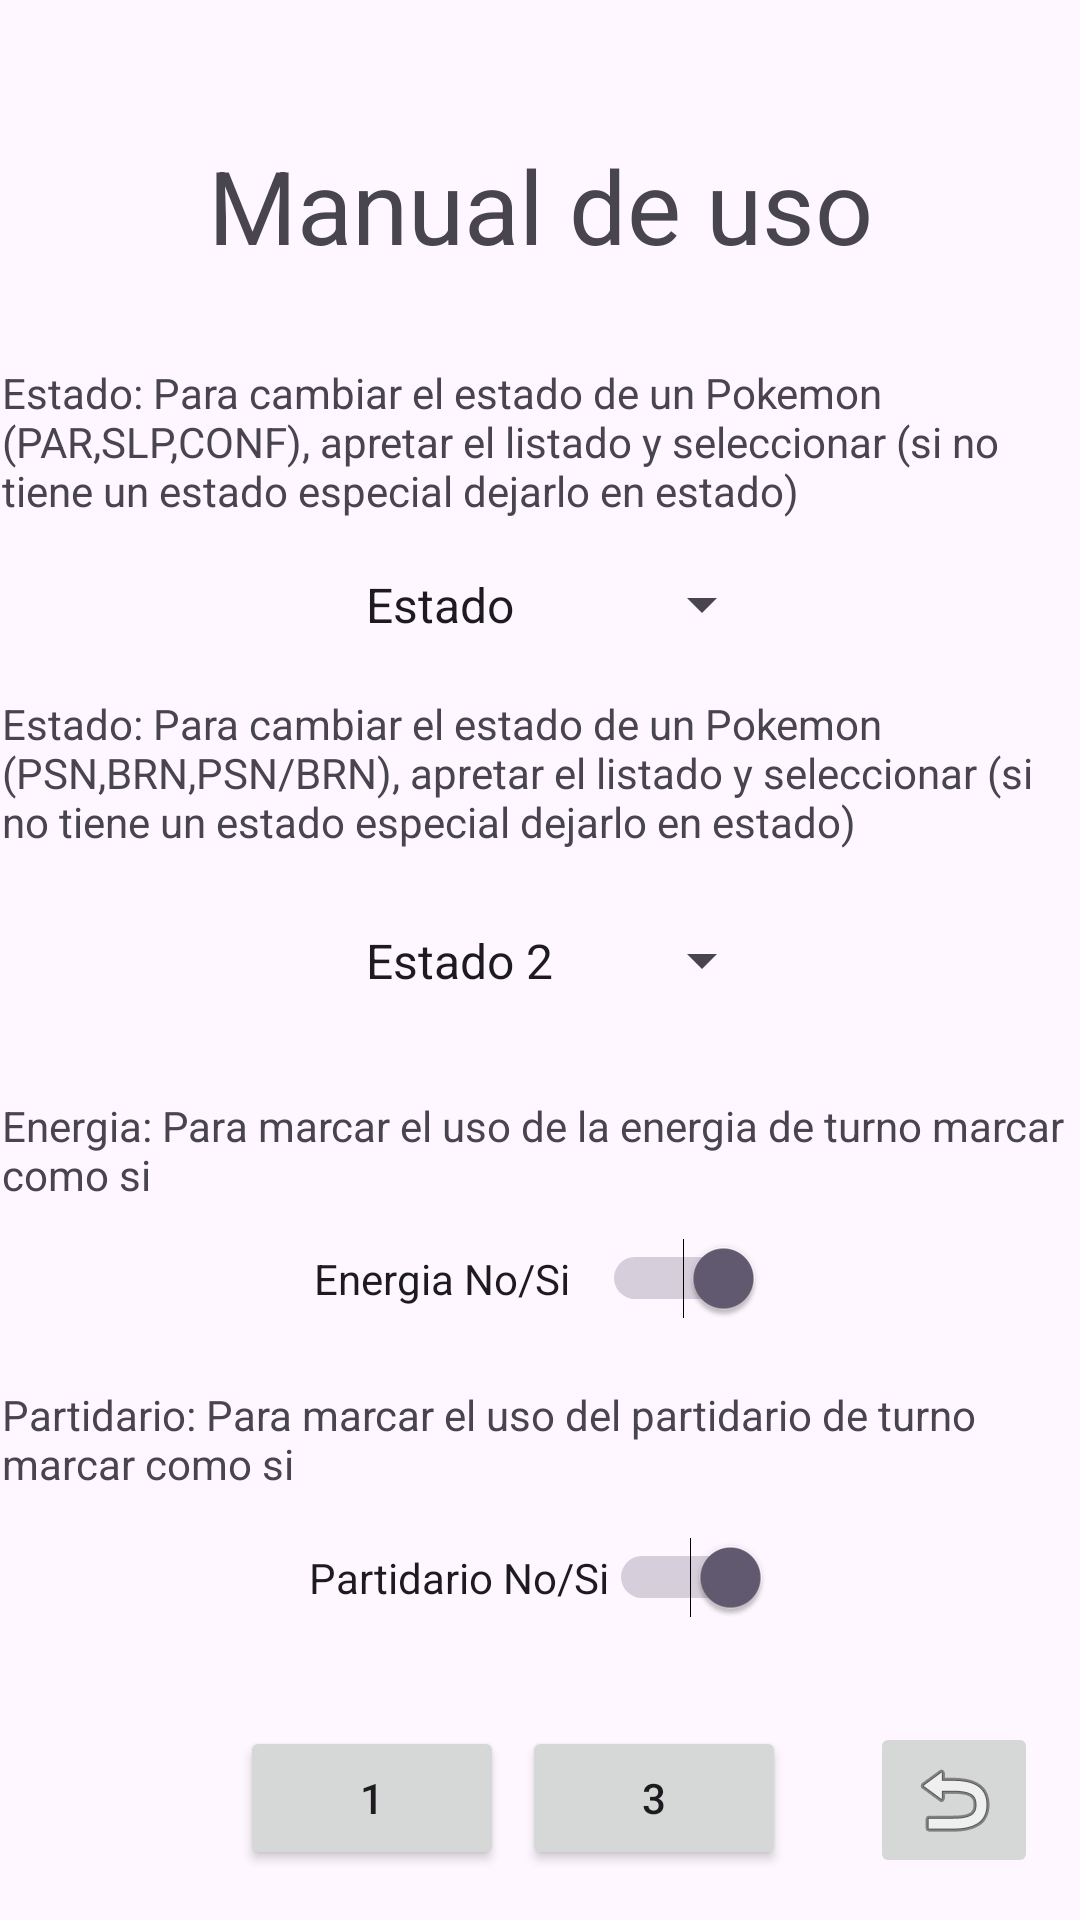

Named icons in this screenshot (1080 × 1920) and their centers, point (x, y):
revert: point (954, 1800)
